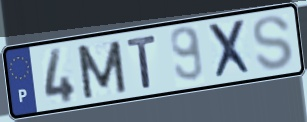4: (43, 45, 78, 106)
9: (170, 25, 207, 89)
M: (74, 37, 129, 101)
S: (250, 14, 295, 73)
T: (125, 33, 159, 91)
X: (205, 17, 256, 82)
